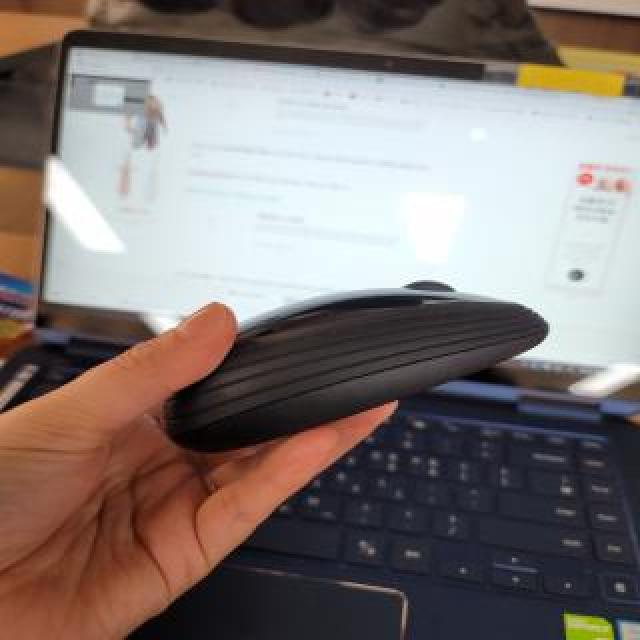laptop_computer: (28, 26, 624, 640)
mouse: (135, 276, 556, 446)
